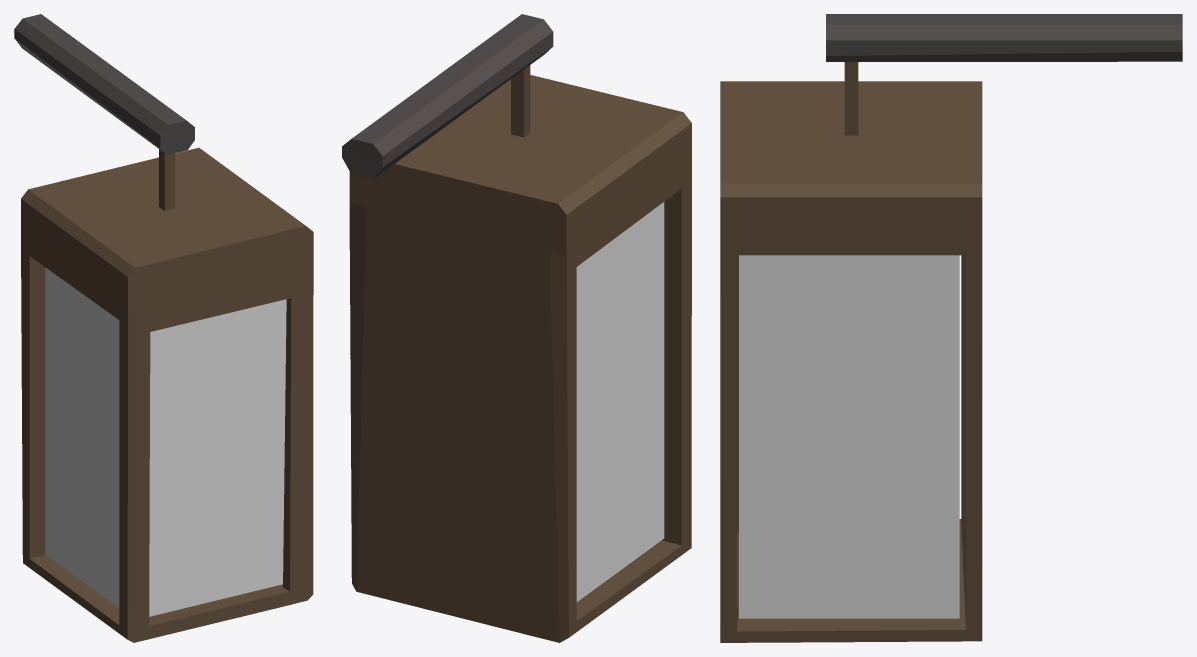
Rendered from Lampara de pared.fbx.
3 views of the same model, side by side, from view 1: azimuth 30°, elevation 25°; view 2: azimuth 150°, elevation 25°; view 3: azimuth 270°, elevation 25° (orthographic). The views are drawn at different scales.
Parts seen in each view (by area): view 1: Base_Lamp, Papel_Lamp; view 2: Base_Lamp, Papel_Lamp; view 3: Base_Lamp, Papel_Lamp.
Boxes of the visible parts, x1,y1,x2,y2 form: Base_Lamp: (14, 14, 313, 642); Papel_Lamp: (45, 267, 286, 616); Base_Lamp: (342, 14, 691, 642); Papel_Lamp: (576, 202, 664, 601); Base_Lamp: (720, 14, 1182, 642); Papel_Lamp: (739, 255, 959, 618).
Bounding box in the file's own units: 1 × 2.41 × 1.76.
